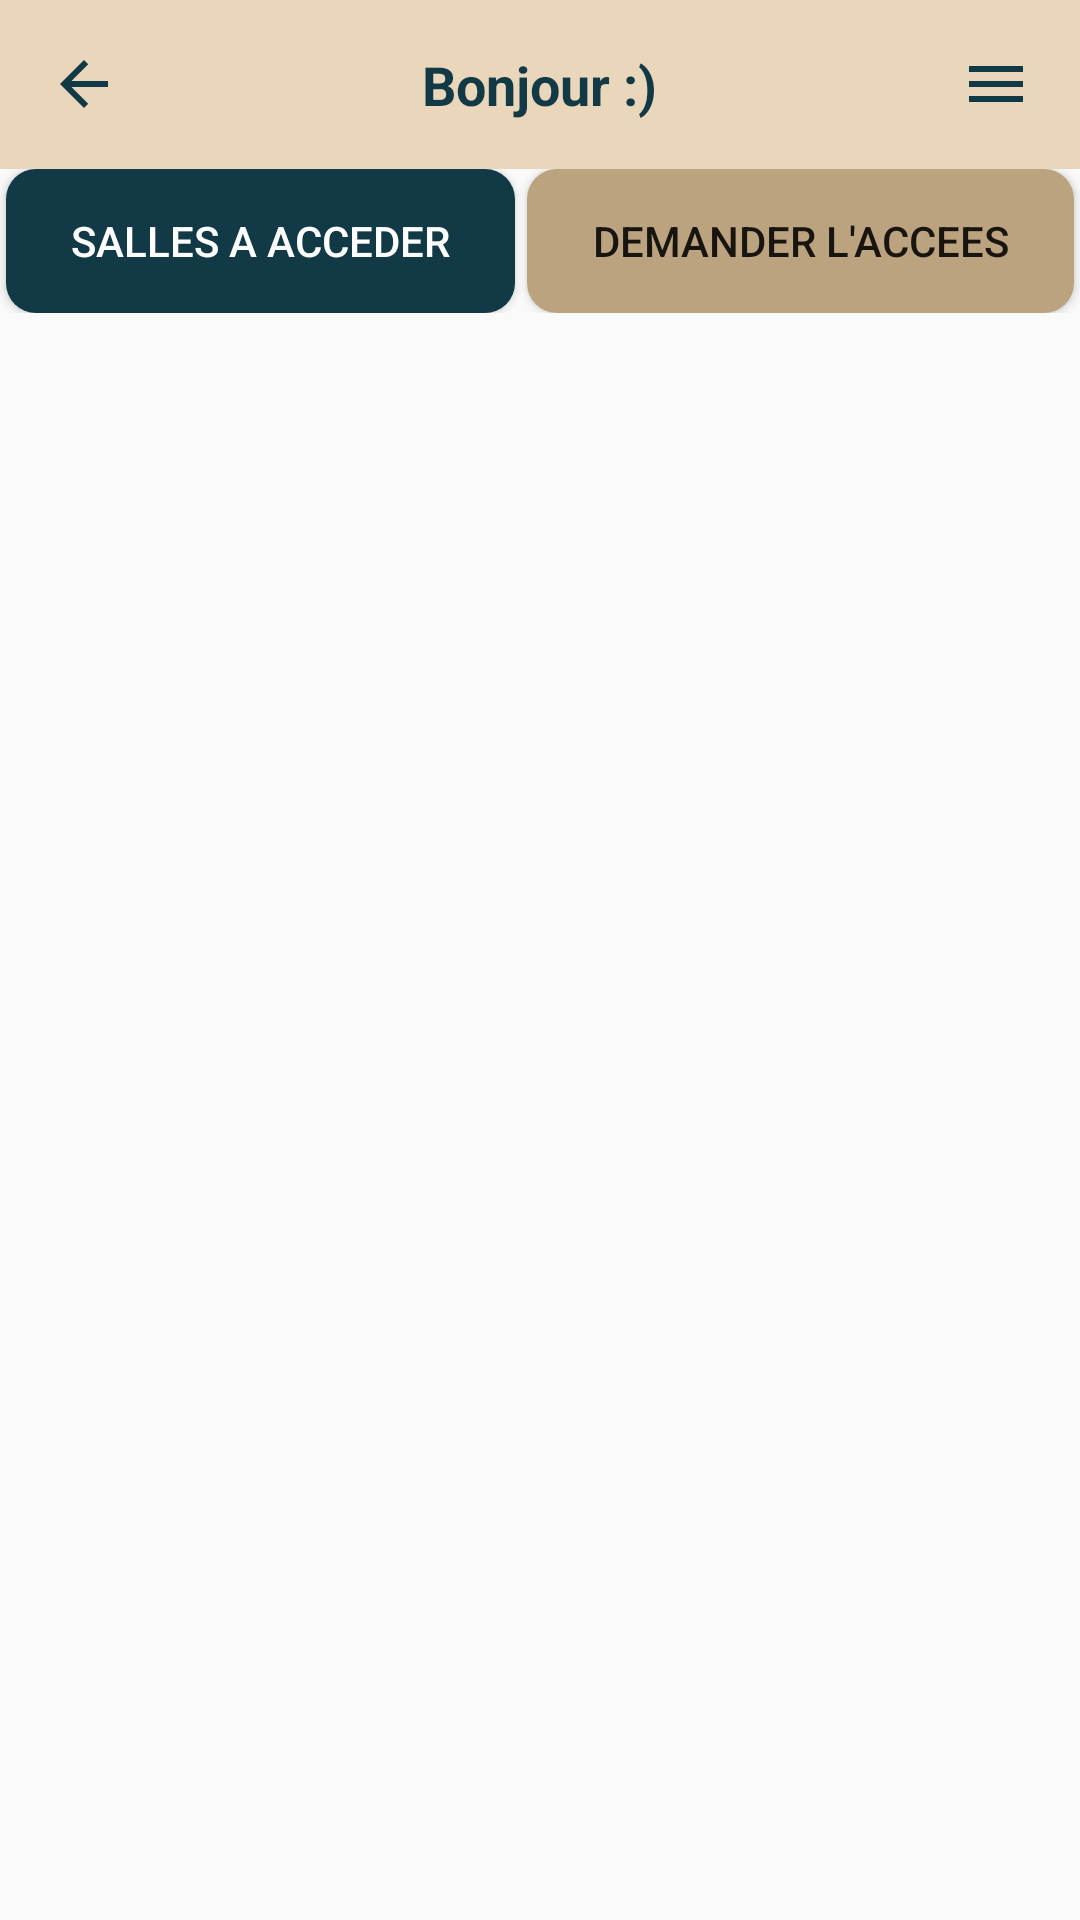

Icon click points for this 1080 × 1920 phone screenshot, format (x=x, y=y):
arrow back: (x=84, y=84)
menu: (x=996, y=84)
